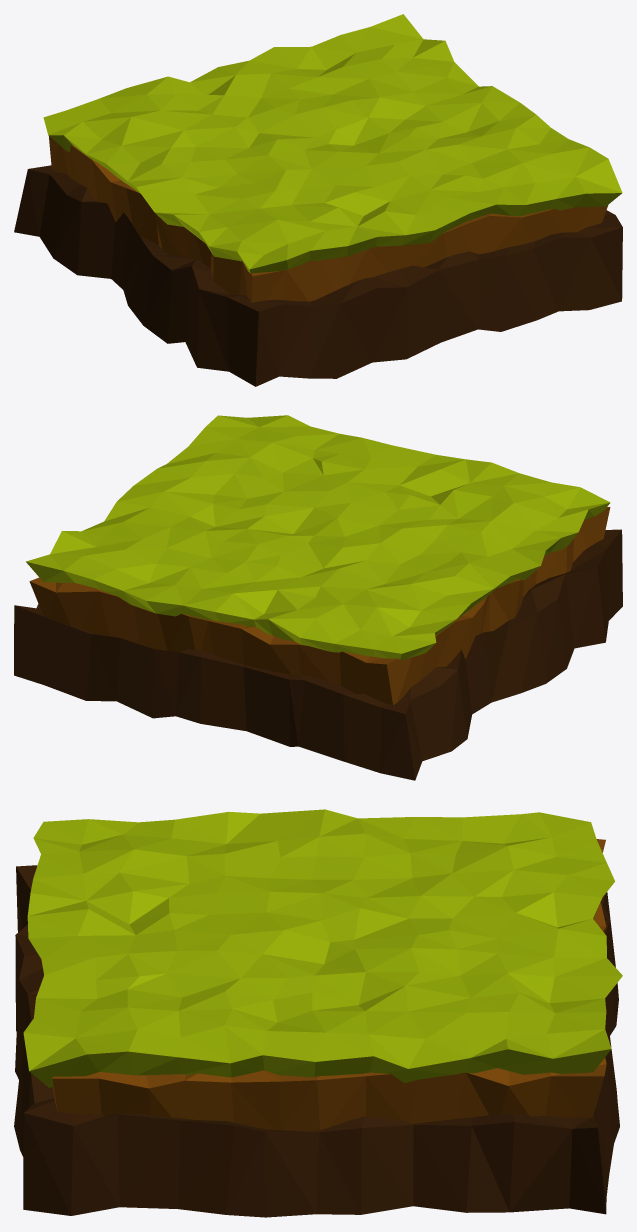
Rendered from Landscape.fbx.
The picture shows the model from 3 angles, top to bottom: view 1: azimuth 30°, elevation 25°; view 2: azimuth 150°, elevation 25°; view 3: azimuth 270°, elevation 25°; orthographic projection. The views are drawn at different scales.
Parts seen in each view (by area): view 1: LandSurface, LandBot, LandMid; view 2: LandSurface, LandBot, LandMid; view 3: LandSurface, LandBot, LandMid.
Part boxes in pixels (x1,y1,x2,y2): LandSurface: [43, 14, 622, 273]; LandBot: [14, 165, 622, 386]; LandMid: [49, 136, 608, 302]; LandSurface: [26, 415, 610, 659]; LandBot: [14, 529, 622, 780]; LandMid: [29, 507, 610, 704]; LandSurface: [23, 809, 622, 1087]; LandBot: [14, 865, 619, 1217]; LandMid: [52, 839, 606, 1131].
Bounding box in the file's own units: 28.54 × 8.68 × 27.81.
